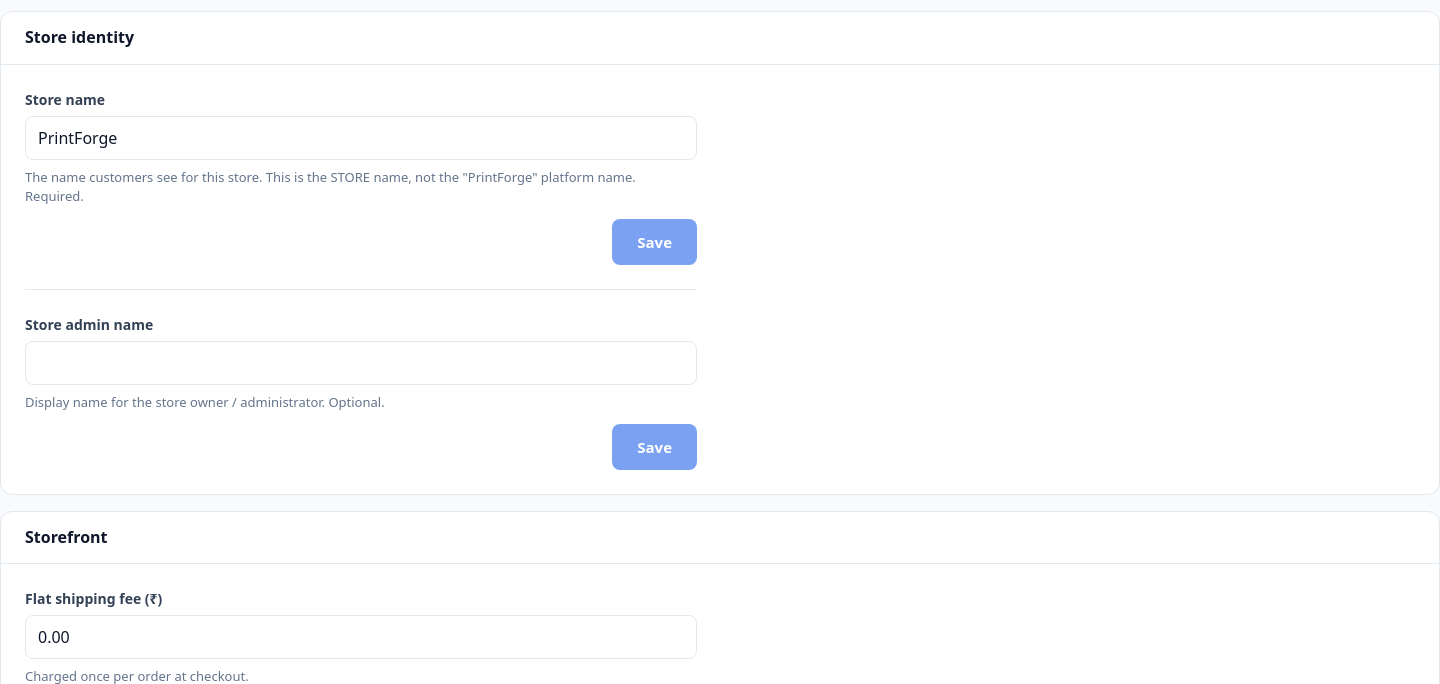
Test: AdminSettingsPage › surfaces a server validation error without claiming success
Replace the text in the field labelled "Flat shipping fee (₹)" with "5" at (361, 637), box [25,615,697,659]
(page scrolled)
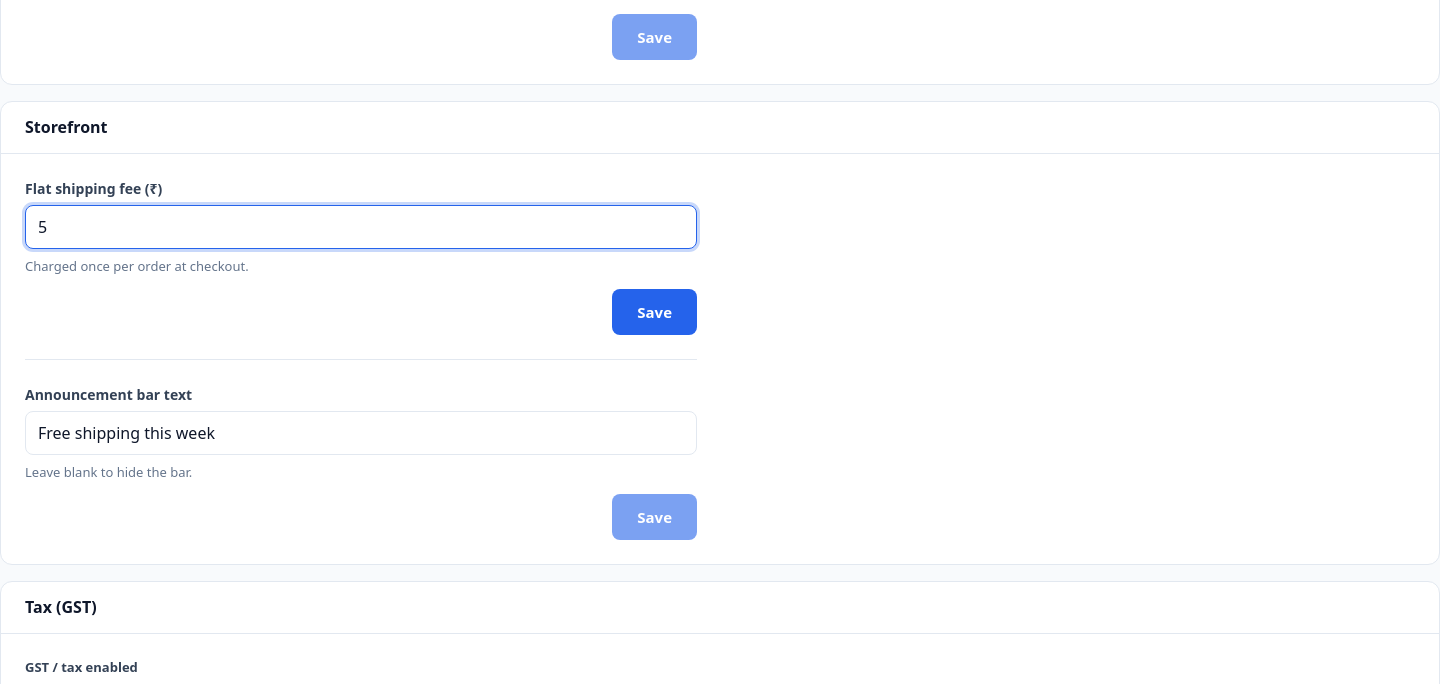
Click the 2nd button "Save".
click(655, 312)  # box [612,289,697,335]
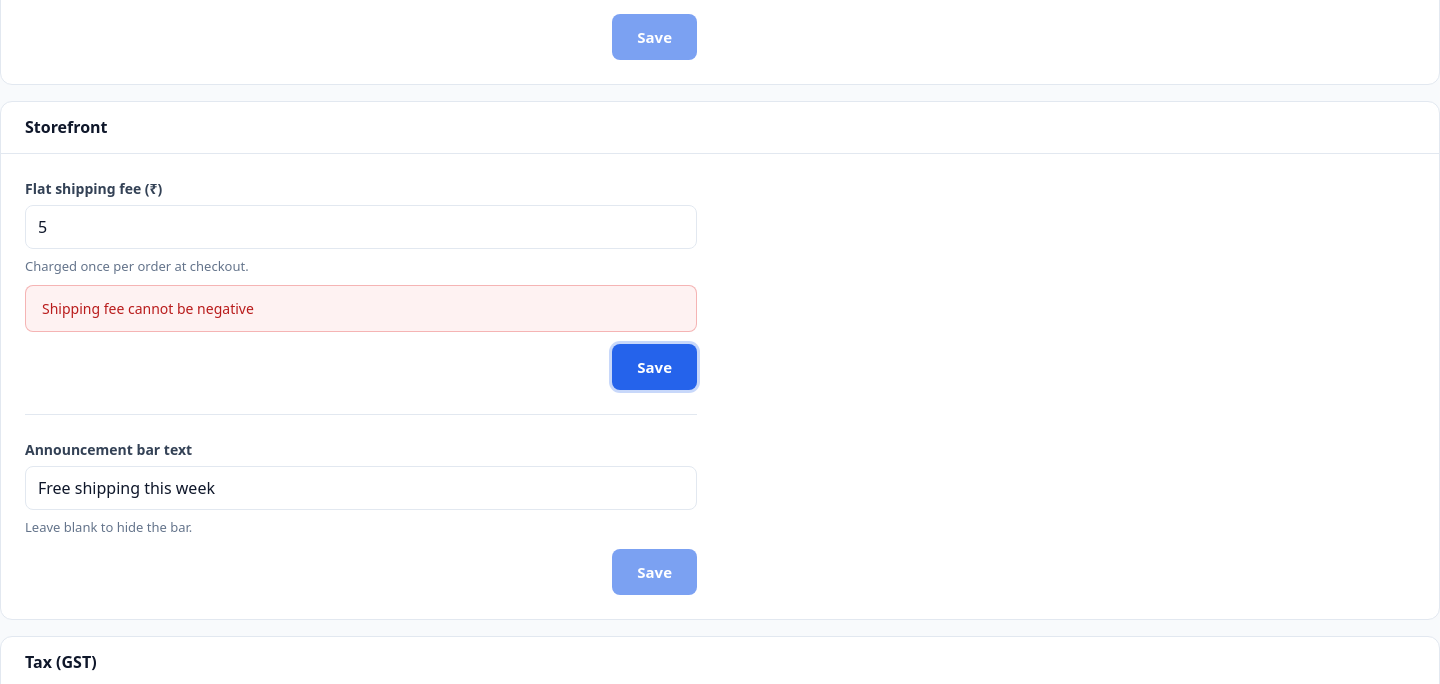
Check: the text "Shipping fee cannot be negative" is shown, box [25,285,697,332]
